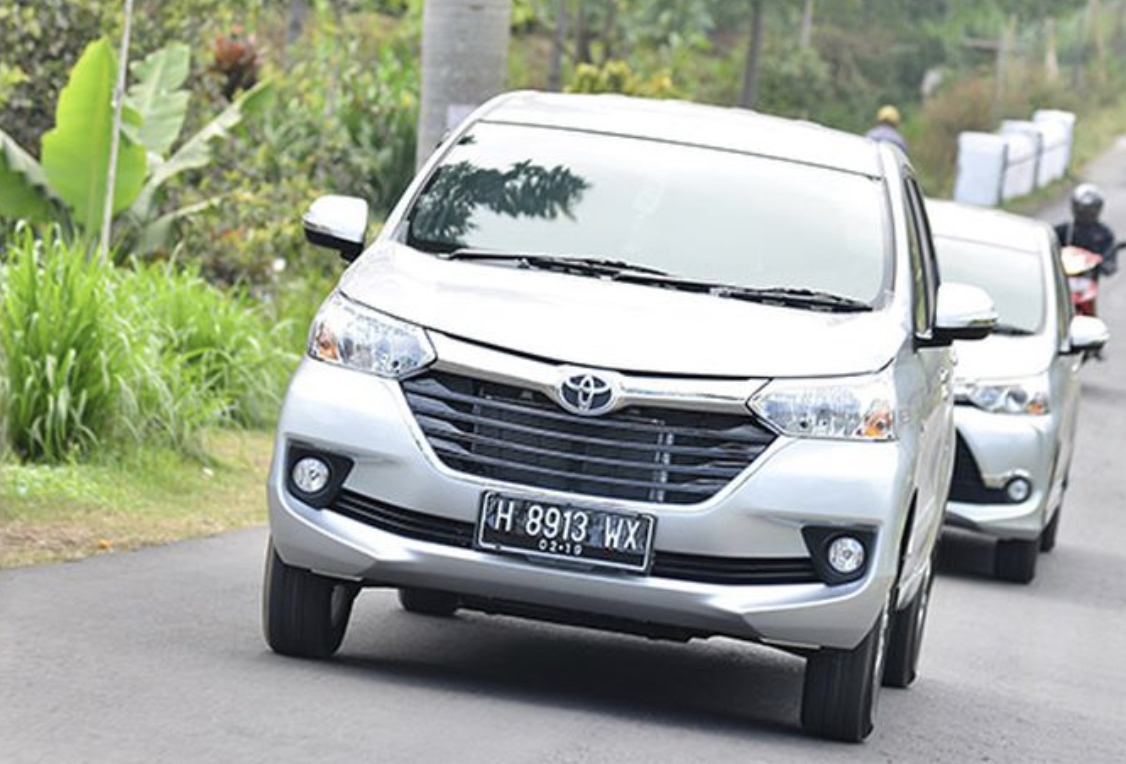Mobil: (461, 481, 694, 583)
Motor: (269, 94, 942, 748), (882, 188, 1071, 567)
